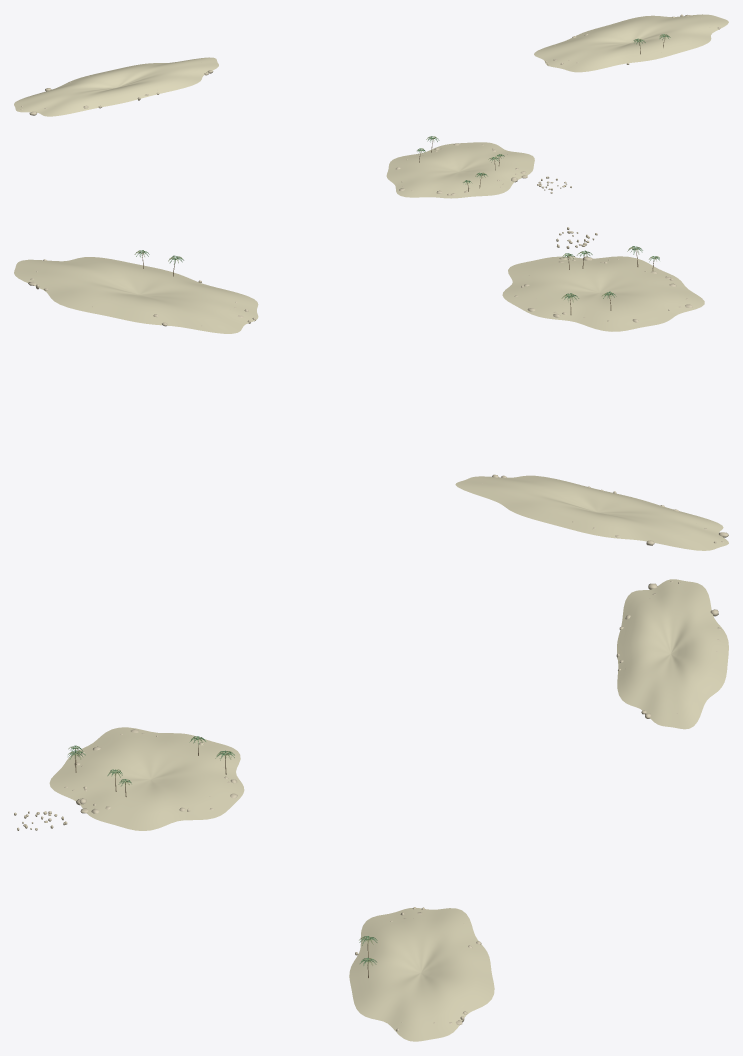
Rendered from region_indian_ocean.glb.
The picture shows the model from 3 angles, top to bottom: view 1: azimuth 30°, elevation 25°; view 2: azimuth 150°, elevation 25°; view 3: azimuth 270°, elevation 25°; orthographic projection. The views are drawn at different scales.
Visible parts, largest first — view 1: Sand, CoralLimestone; view 2: Sand, CoralLimestone; view 3: Sand, CoralLimestone.
Boxes of the visible parts, box(x1,y1,x2,y2) form: Sand: box(14, 14, 728, 198); CoralLimestone: box(20, 14, 720, 195); Sand: box(14, 256, 728, 550); CoralLimestone: box(28, 227, 728, 545); Sand: box(49, 579, 728, 1041); CoralLimestone: box(14, 581, 721, 1031).
Bounding box in the file's own units: 438 × 13.19 × 286.
